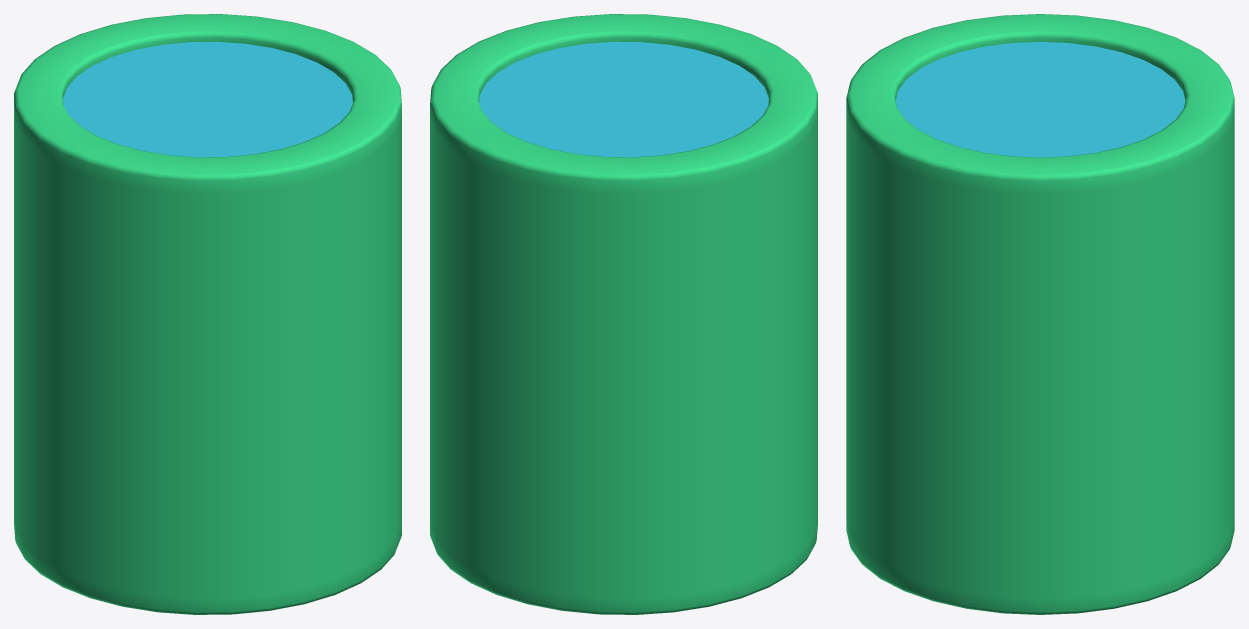
File: SoftCylinder.FBX
3 renders of one model, left to right at view 1: azimuth 30°, elevation 25°; view 2: azimuth 150°, elevation 25°; view 3: azimuth 270°, elevation 25°, orthographic.
Parts seen in each view (by area): view 1: SoftCylinder; view 2: SoftCylinder; view 3: SoftCylinder.
Part boxes in pixels (x1,y1,x2,y2): SoftCylinder: (14, 14, 401, 614); SoftCylinder: (430, 14, 817, 614); SoftCylinder: (846, 14, 1234, 614).
Size of the model in its own units: 157 by 197 by 157.
